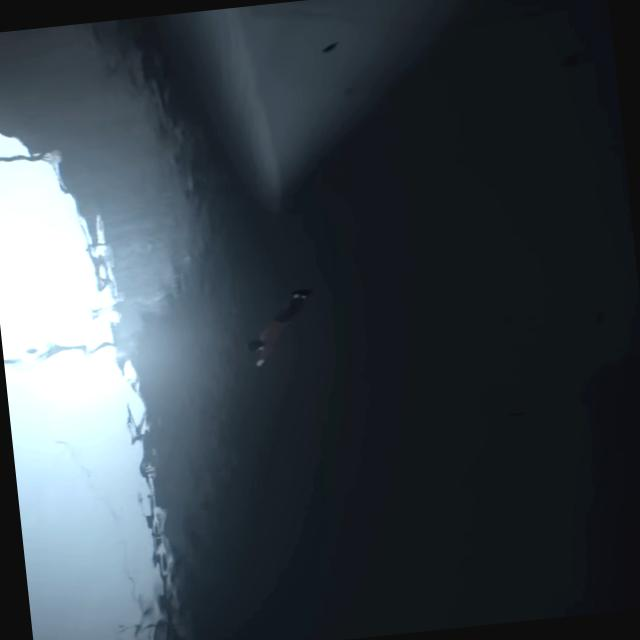boy: (240, 291, 316, 355)
